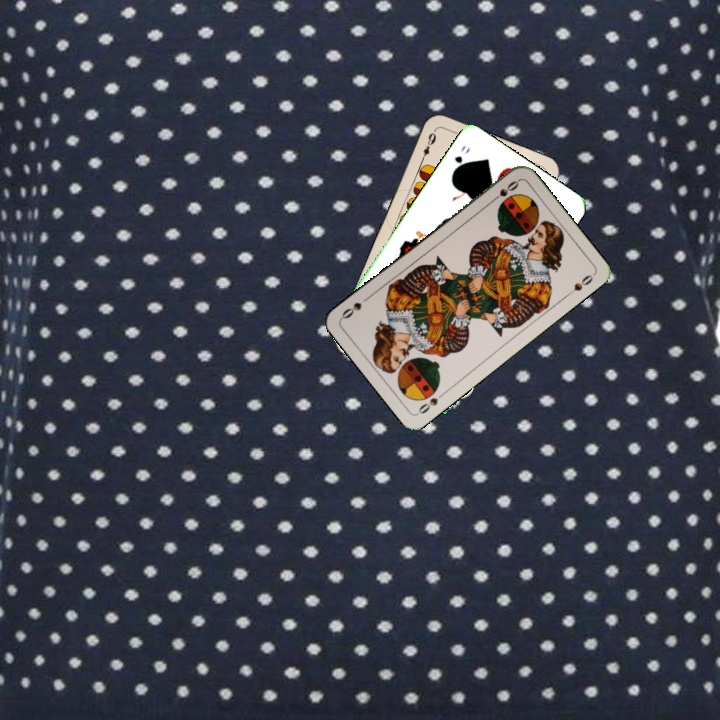E9: (417, 126, 439, 165)
GO: (449, 141, 473, 177)
SO: (487, 176, 522, 206), (414, 387, 448, 417)
